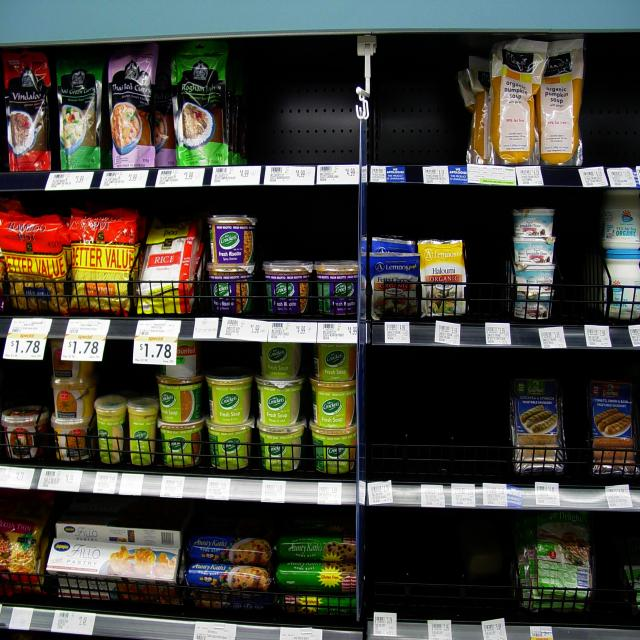empty_space: (366, 350, 510, 474), (239, 45, 358, 167), (383, 39, 464, 165), (367, 510, 465, 614), (262, 189, 358, 263), (584, 40, 640, 166)
